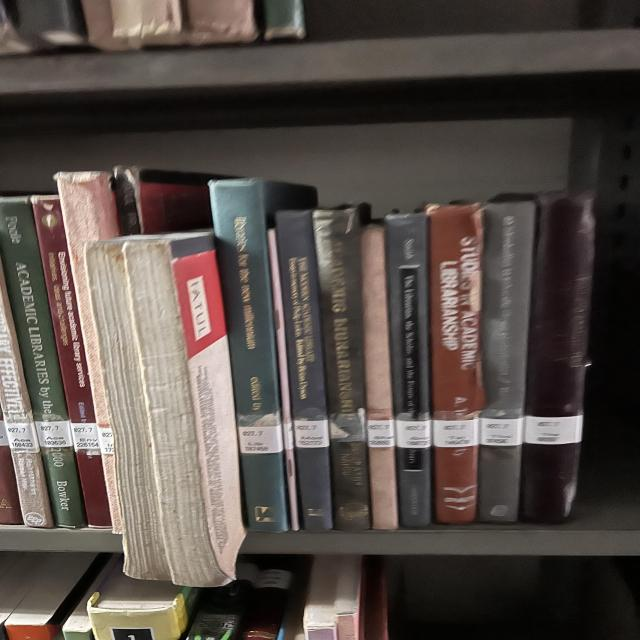Book: (210, 178, 317, 532), (0, 196, 87, 528), (30, 195, 112, 528), (520, 192, 595, 522), (478, 195, 537, 522), (425, 204, 485, 524), (275, 210, 333, 530), (313, 206, 370, 530), (385, 214, 432, 528), (360, 225, 398, 530)
Label: (523, 415, 583, 445), (238, 425, 283, 454), (433, 419, 478, 448), (330, 409, 367, 442), (480, 418, 523, 446), (293, 419, 330, 448), (395, 420, 432, 449), (5, 422, 40, 452), (35, 421, 73, 448), (70, 422, 100, 450), (367, 419, 395, 448)
